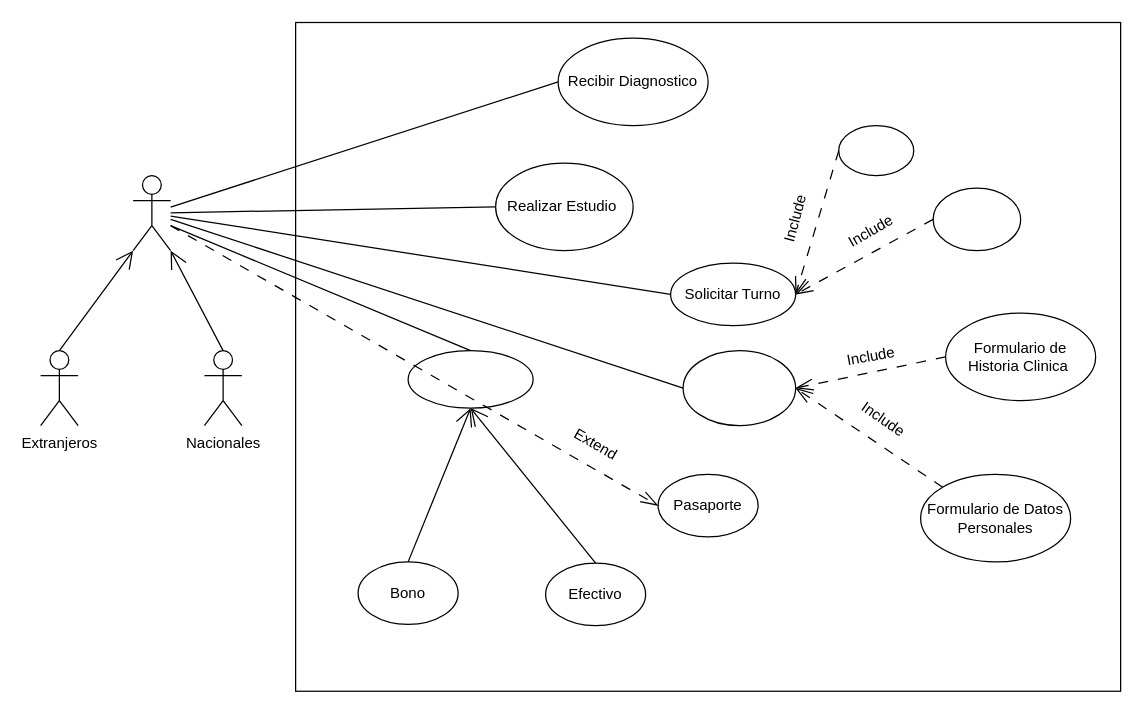
The diagram is 1143 pixels wide and 713 high, and some of its shapes have lost their labels. Each missing label, with the centre of its shape:
Dia: [876,150]
Horario: [976,219]
Pacientes: [151,212]
Pagar Turno: [470,378]
Registro: [739,387]
